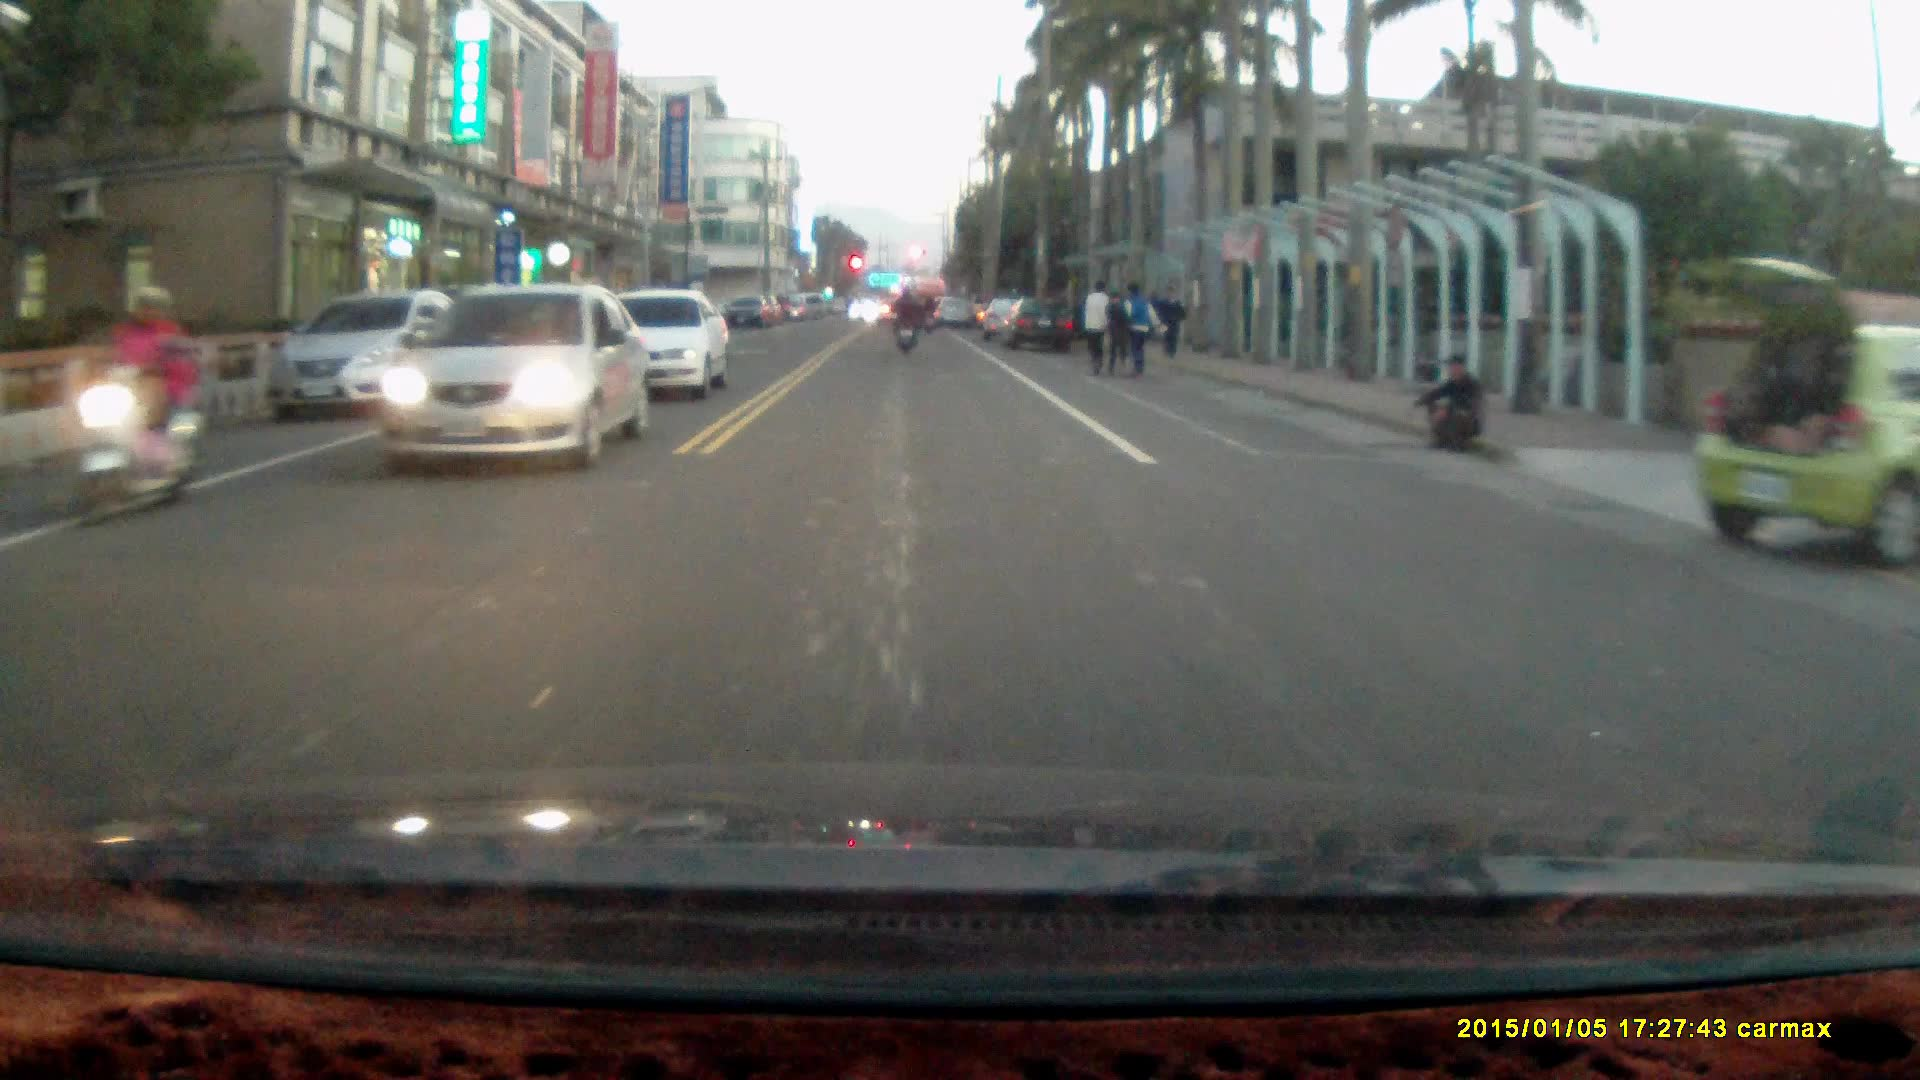pedestrian: (1416, 355, 1488, 456), (1109, 280, 1162, 381), (1082, 277, 1114, 375), (1099, 286, 1128, 374), (1155, 284, 1187, 359)
rider: (65, 279, 203, 529), (887, 281, 921, 357)
vehicle: (1692, 256, 1920, 564), (369, 286, 651, 475), (271, 291, 459, 424), (613, 289, 733, 403), (998, 298, 1078, 352)
